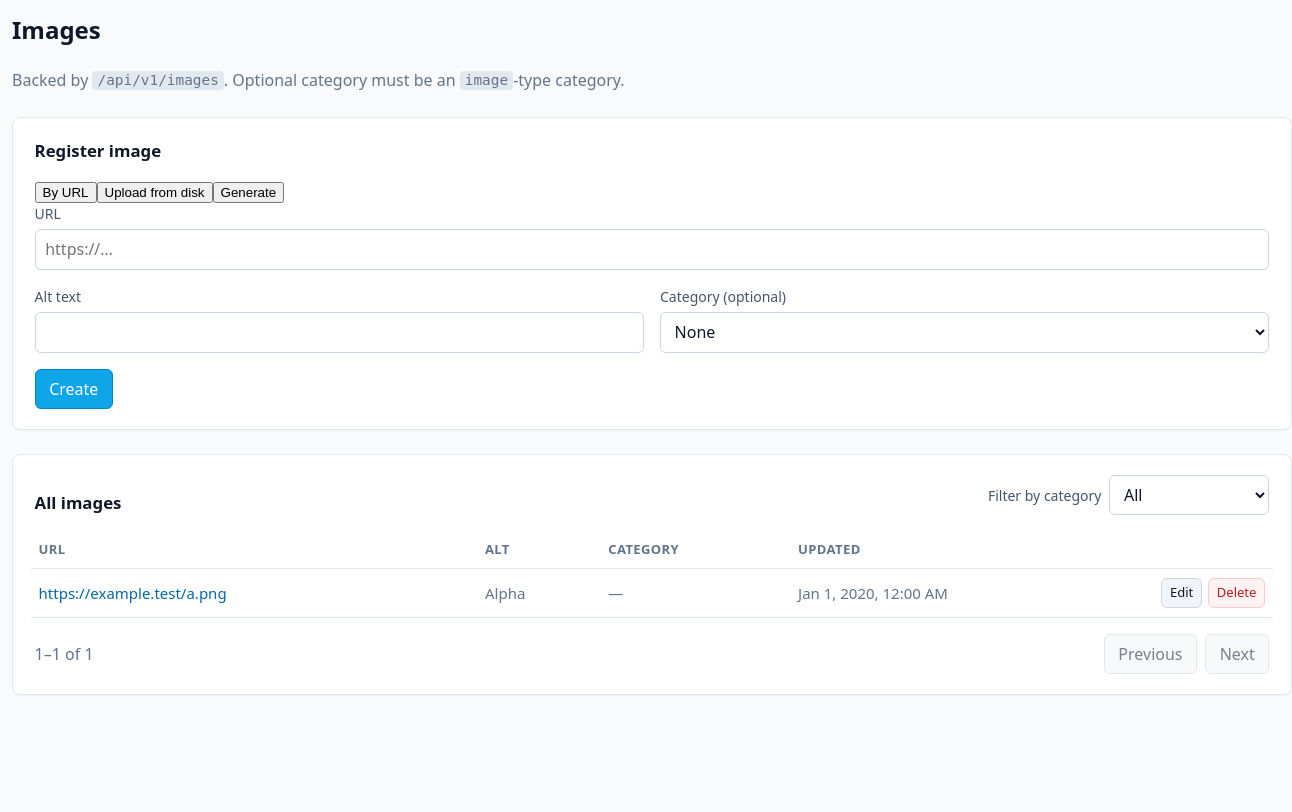
Test: ImagesPage inline edit › surfaces server errors from update
Expected: the link "https://example.test/a.png" is shown, [39,583,227,603]
Click the button "Edit".
click(1182, 593)  # box [1161,578,1202,608]
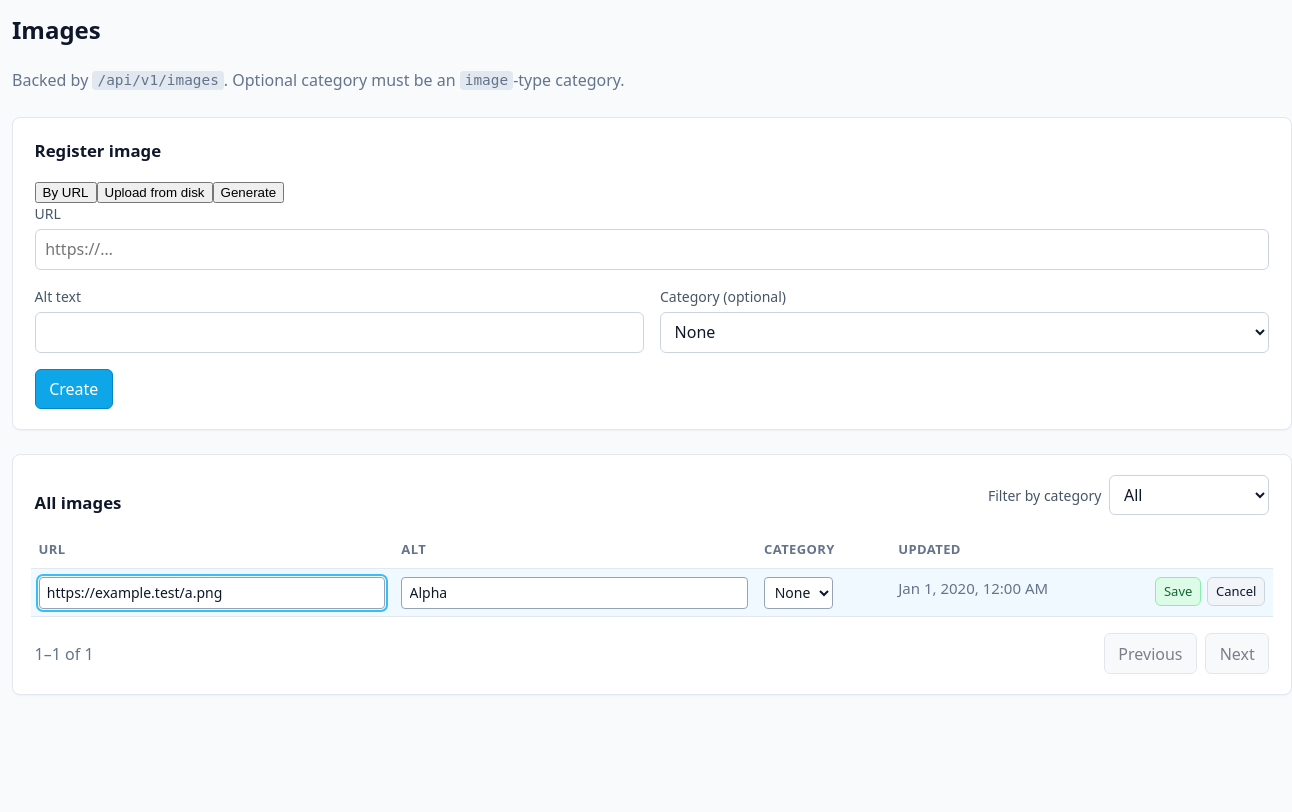
Replace the text in the field named "url —" with "https://example.test/b.png" at {"x": 212, "y": 593}, box [39,577,385,609]
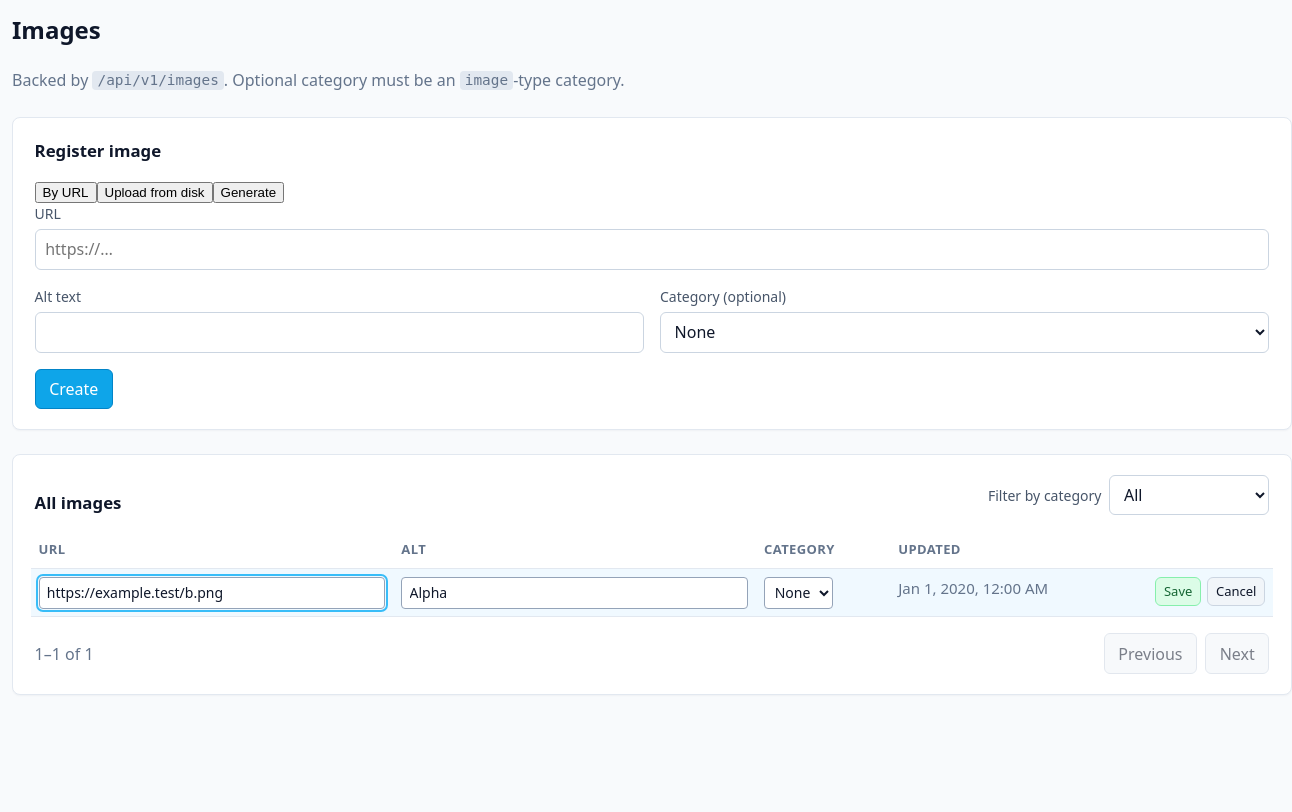
Click the button with aria-label "save changes for image".
click(1178, 591)  # box [1155,577,1201,606]
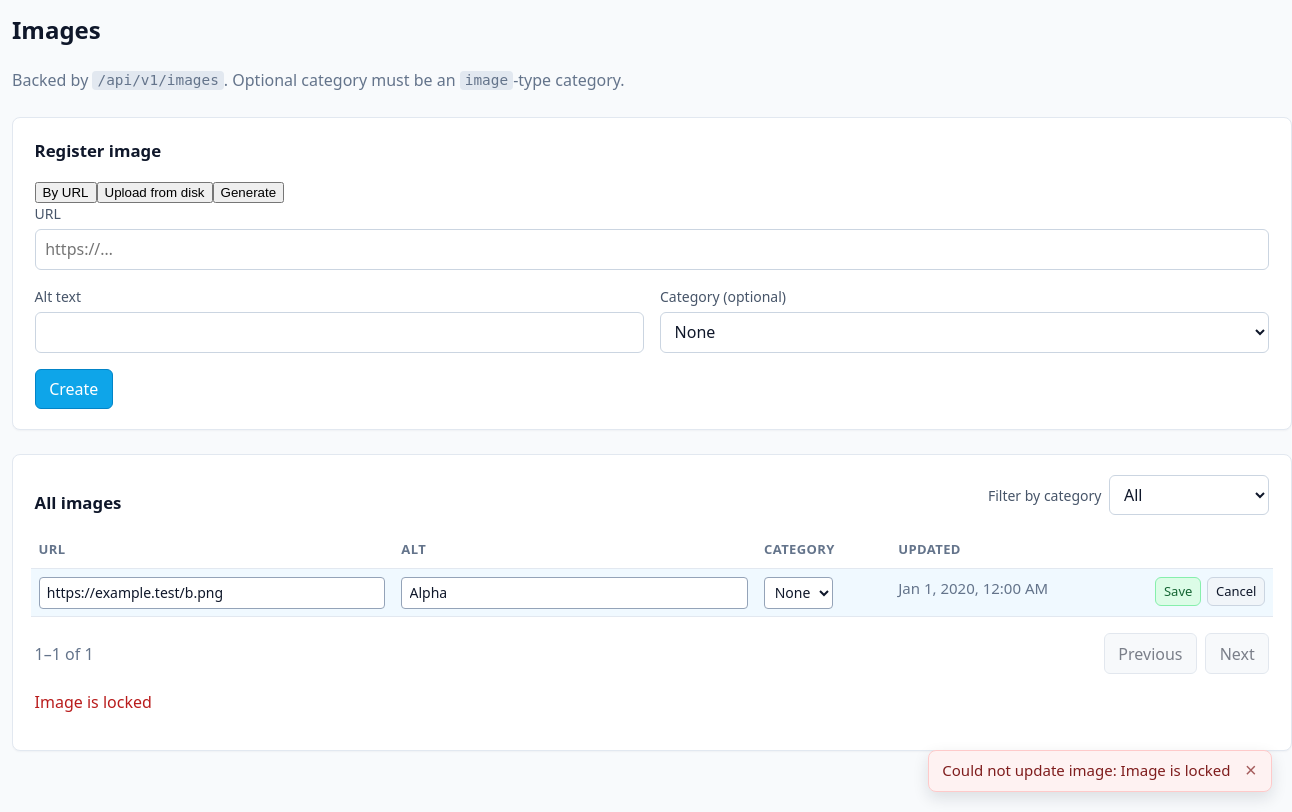
Now the text "Image is locked" is shown, box [35,691,152,713]
